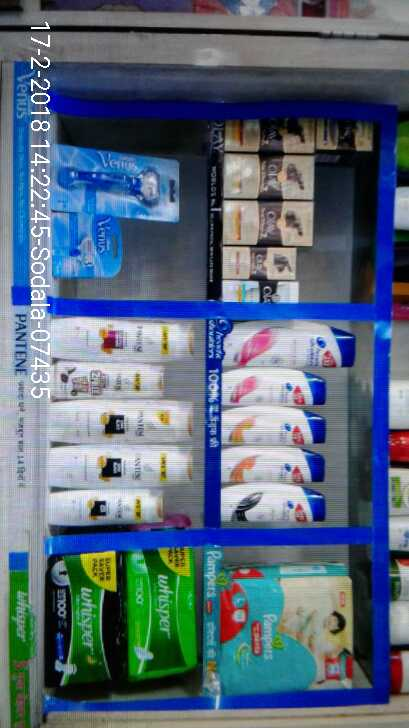venus: (47, 154, 172, 207), (47, 207, 118, 274)
